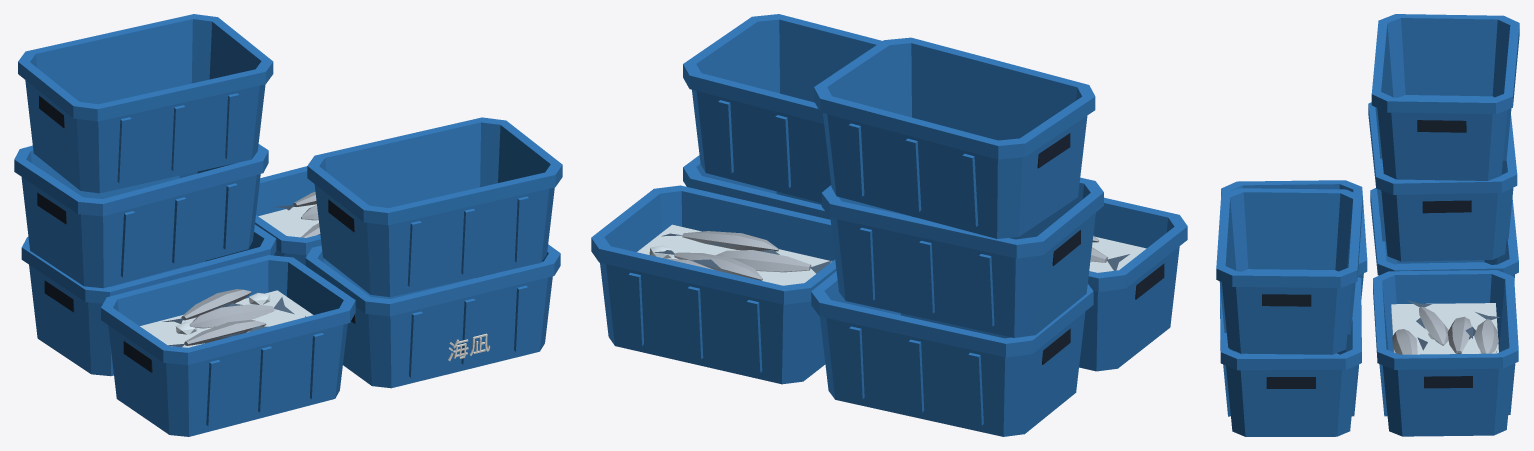
File: crates_blue.glb
3 renders of one model, left to right at view 1: azimuth 30°, elevation 25°; view 2: azimuth 150°, elevation 25°; view 3: azimuth 270°, elevation 25°, orthographic. The views are drawn at different scales.
Parts seen in each view (by area): view 1: crates_blue_body; view 2: crates_blue_body; view 3: crates_blue_body.
Part boxes in pixels (x1,y1,x2,y2): crates_blue_body: [14, 14, 562, 436]; crates_blue_body: [591, 14, 1187, 436]; crates_blue_body: [1216, 14, 1519, 436].
Size of what is drawn, in the model's own units: 1.32 by 0.84 by 0.9273.
